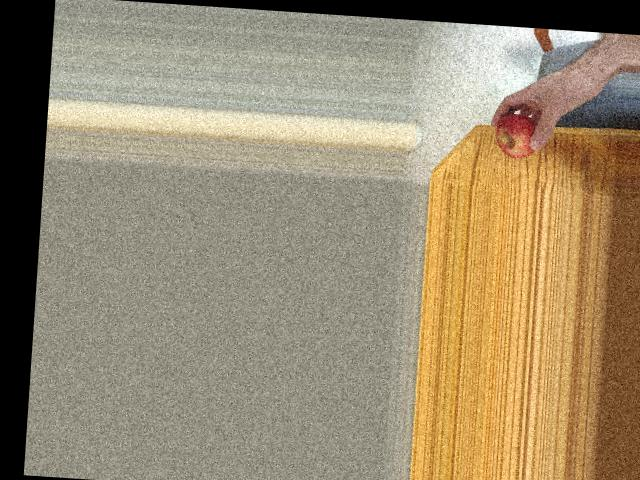apple: (492, 111, 542, 157)
